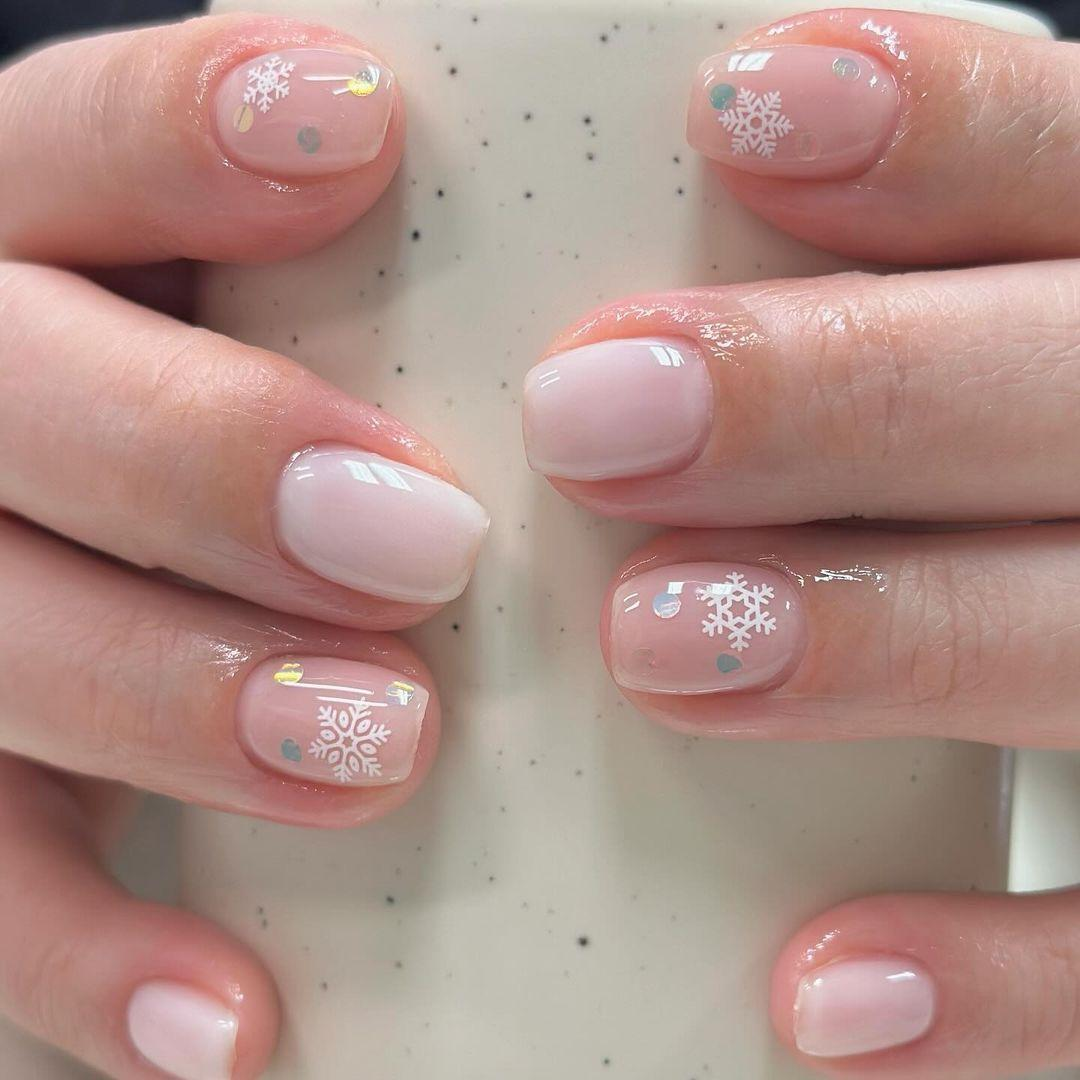nail: (271, 438, 490, 606), (685, 40, 902, 182), (601, 557, 809, 697), (520, 333, 714, 483), (232, 651, 428, 789), (205, 42, 397, 181), (791, 948, 937, 1059), (123, 975, 239, 1079)
